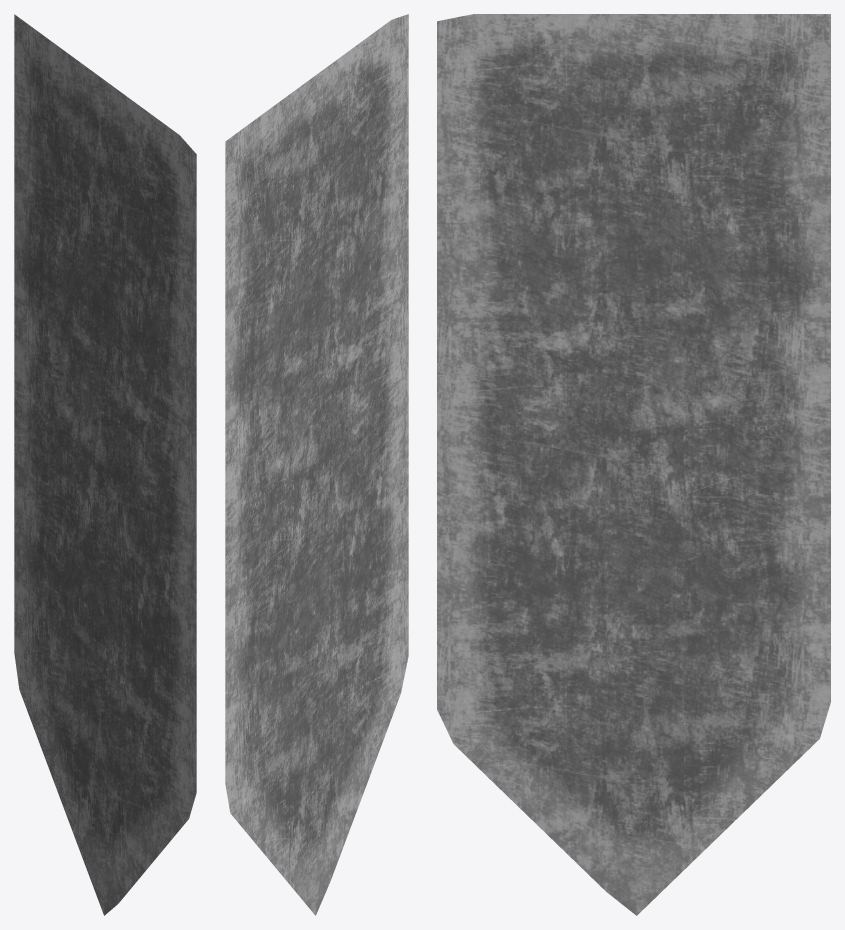
File: SM_Flag_A_AsStaticMesh.fbx
The picture shows the model from 3 angles, left to right: view 1: azimuth 30°, elevation 25°; view 2: azimuth 150°, elevation 25°; view 3: azimuth 270°, elevation 25°; orthographic projection. The views are drawn at different scales.
Parts seen in each view (by area): view 1: SM_Flag_A_AsStaticMesh; view 2: SM_Flag_A_AsStaticMesh; view 3: SM_Flag_A_AsStaticMesh.
Boxes of the visible parts, x1,y1,x2,y2 form: SM_Flag_A_AsStaticMesh: (14,14,196,915); SM_Flag_A_AsStaticMesh: (225,14,408,915); SM_Flag_A_AsStaticMesh: (437,14,830,915).
Bounding box in the file's own units: 2.89e-05 × 75 × 189.
